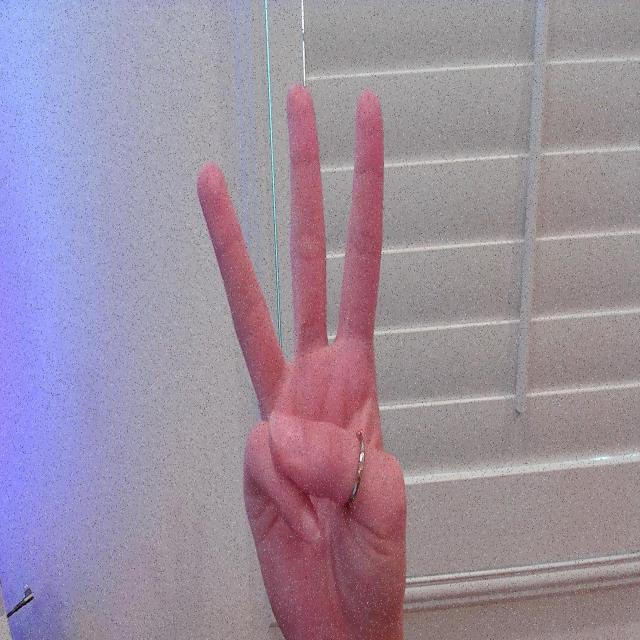W: (194, 79, 408, 640)
